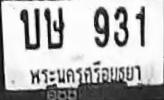1: (134, 6, 145, 46)
3: (113, 5, 128, 46)
9: (93, 6, 109, 47)
A26: (19, 7, 40, 49)
A39: (43, 6, 64, 48)
AYA: (28, 60, 146, 86)
